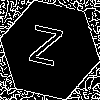Z: (25, 25, 64, 76)
